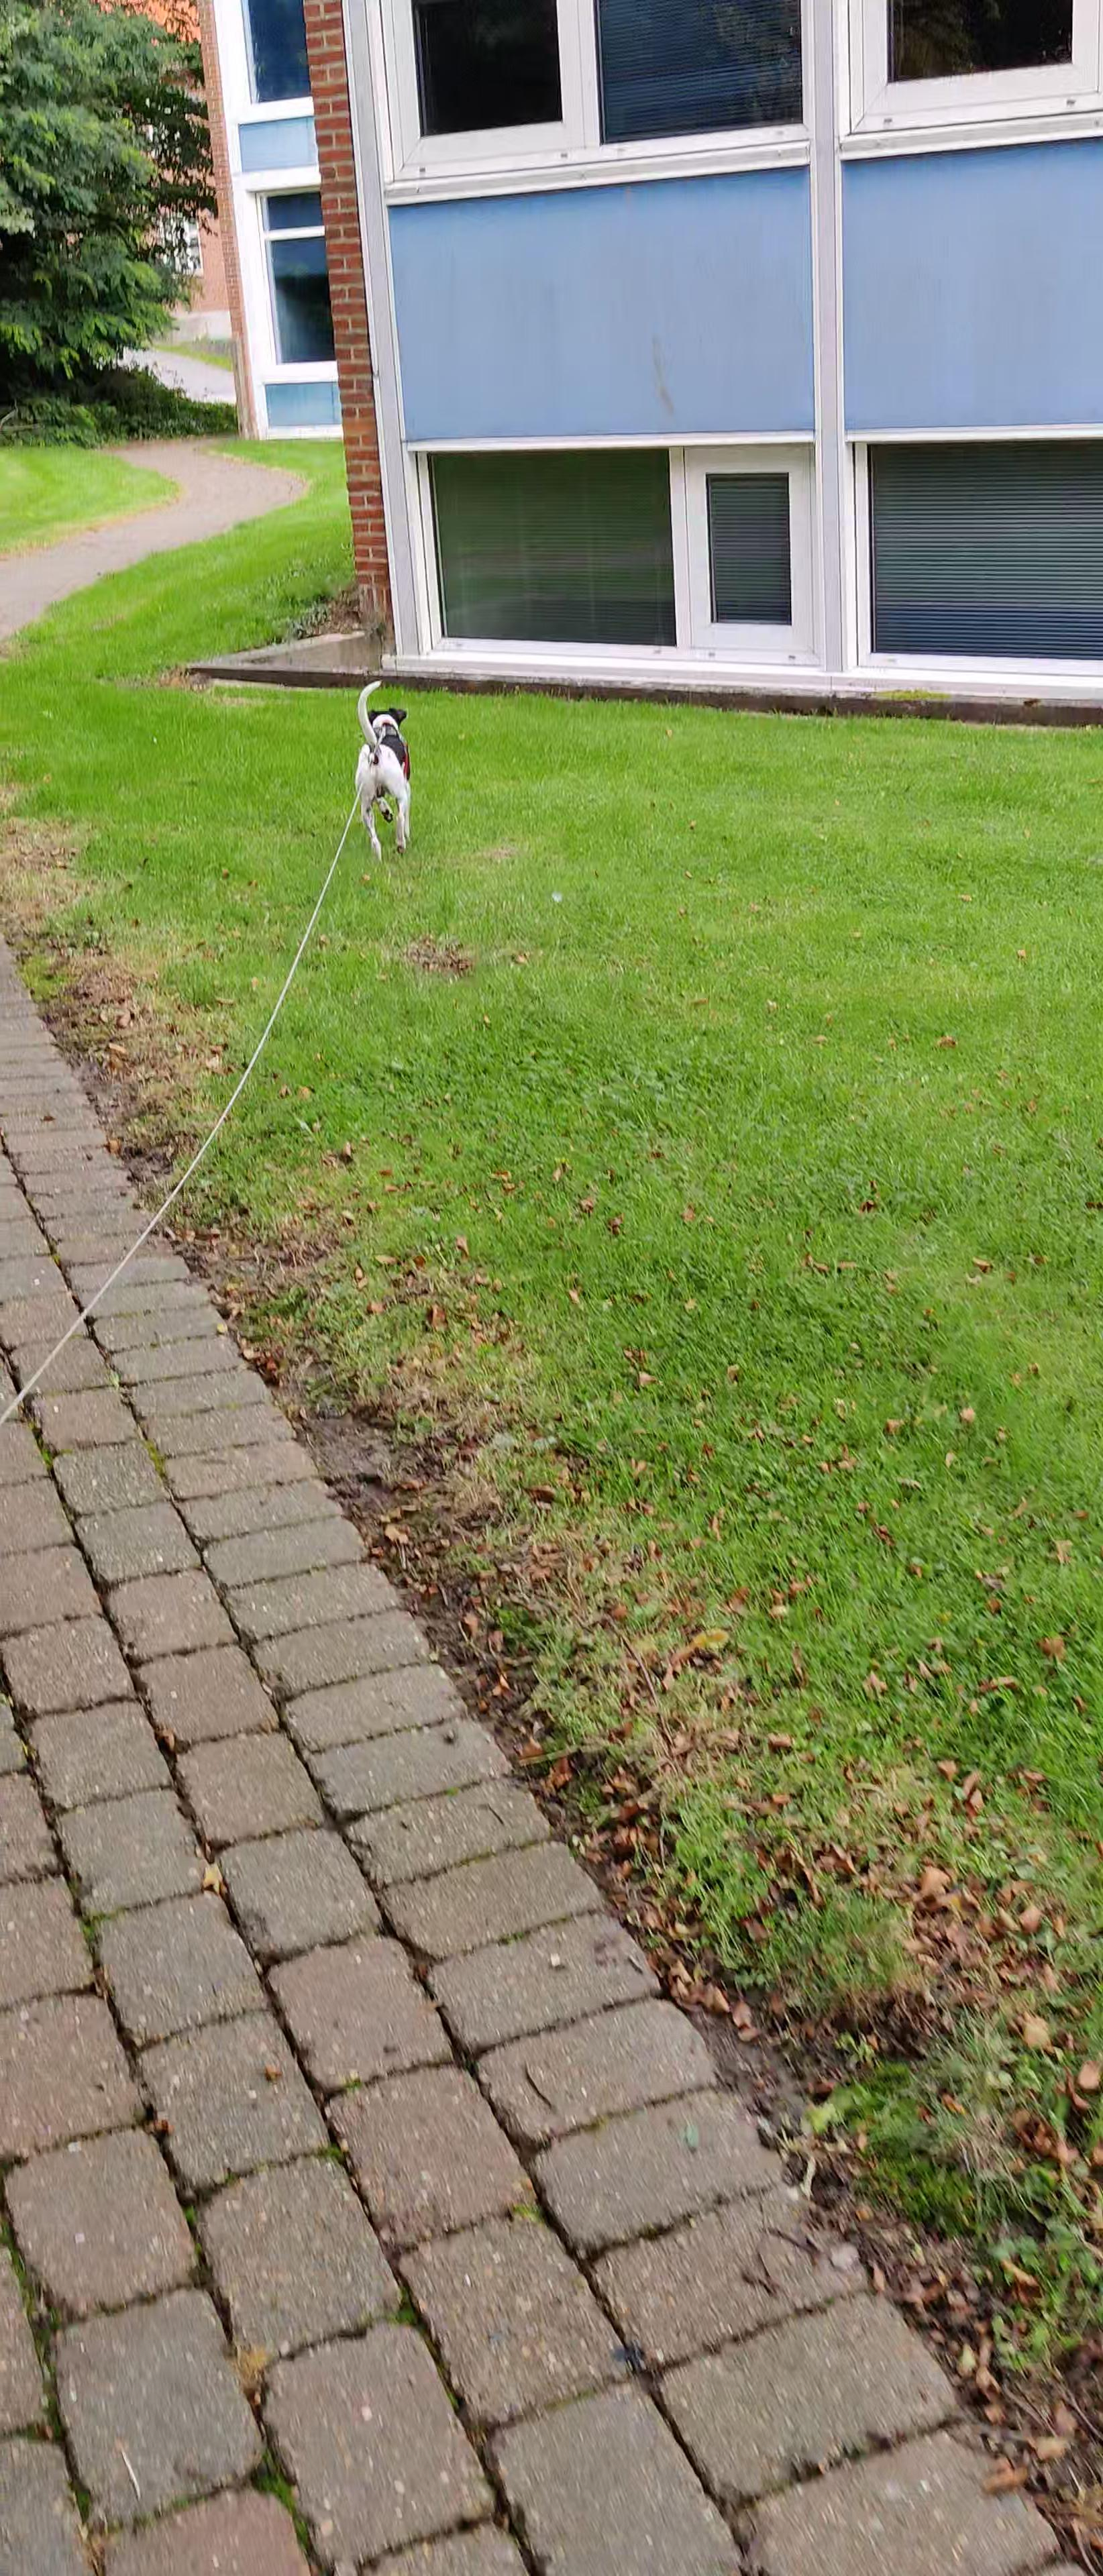Dog: (340, 675, 432, 871)
